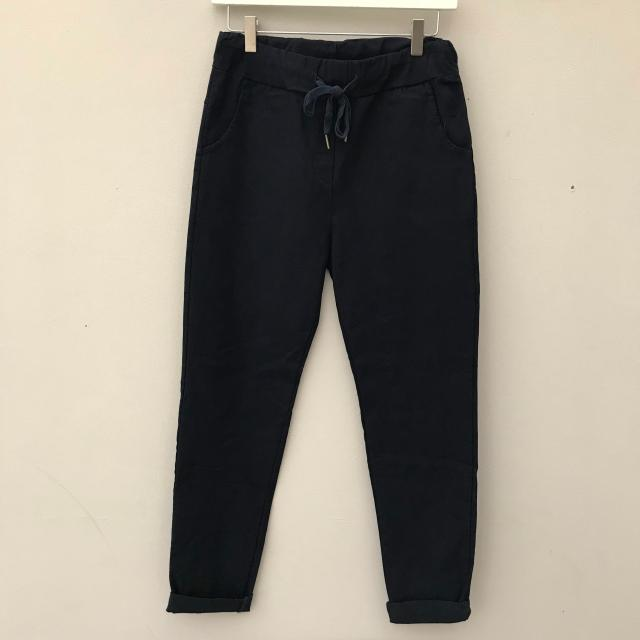long-pants: (165, 29, 488, 626)
